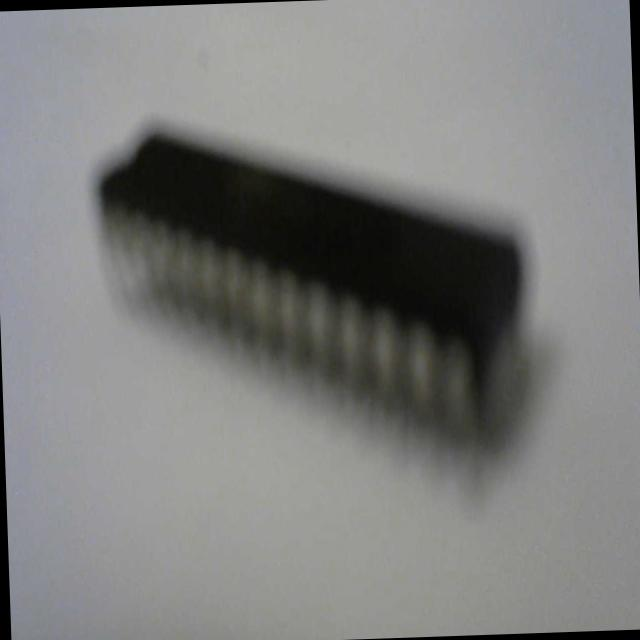atmega: (90, 108, 538, 478)
